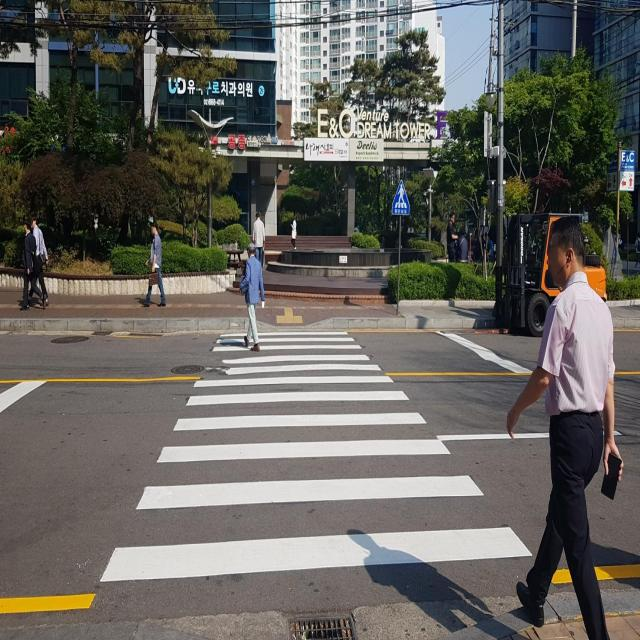횡단보도: (97, 323, 535, 589)
